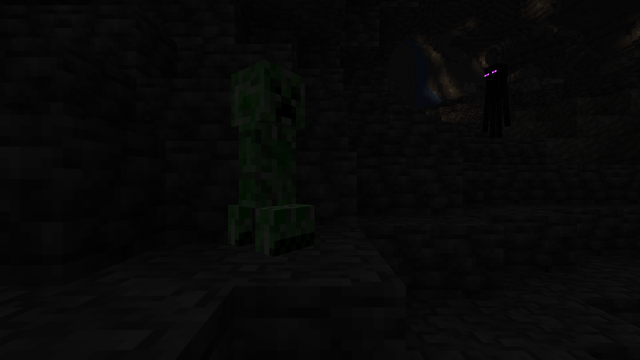creepers: (226, 53, 301, 251)
endermens: (482, 60, 509, 124)
